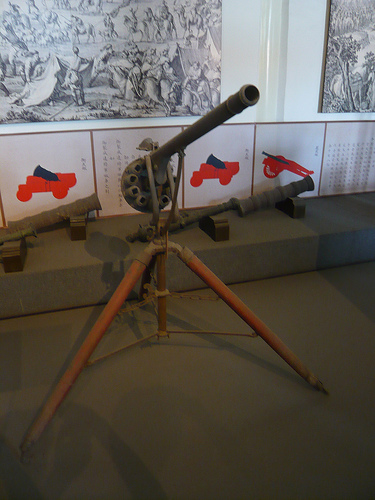rifle: (32, 77, 317, 409)
